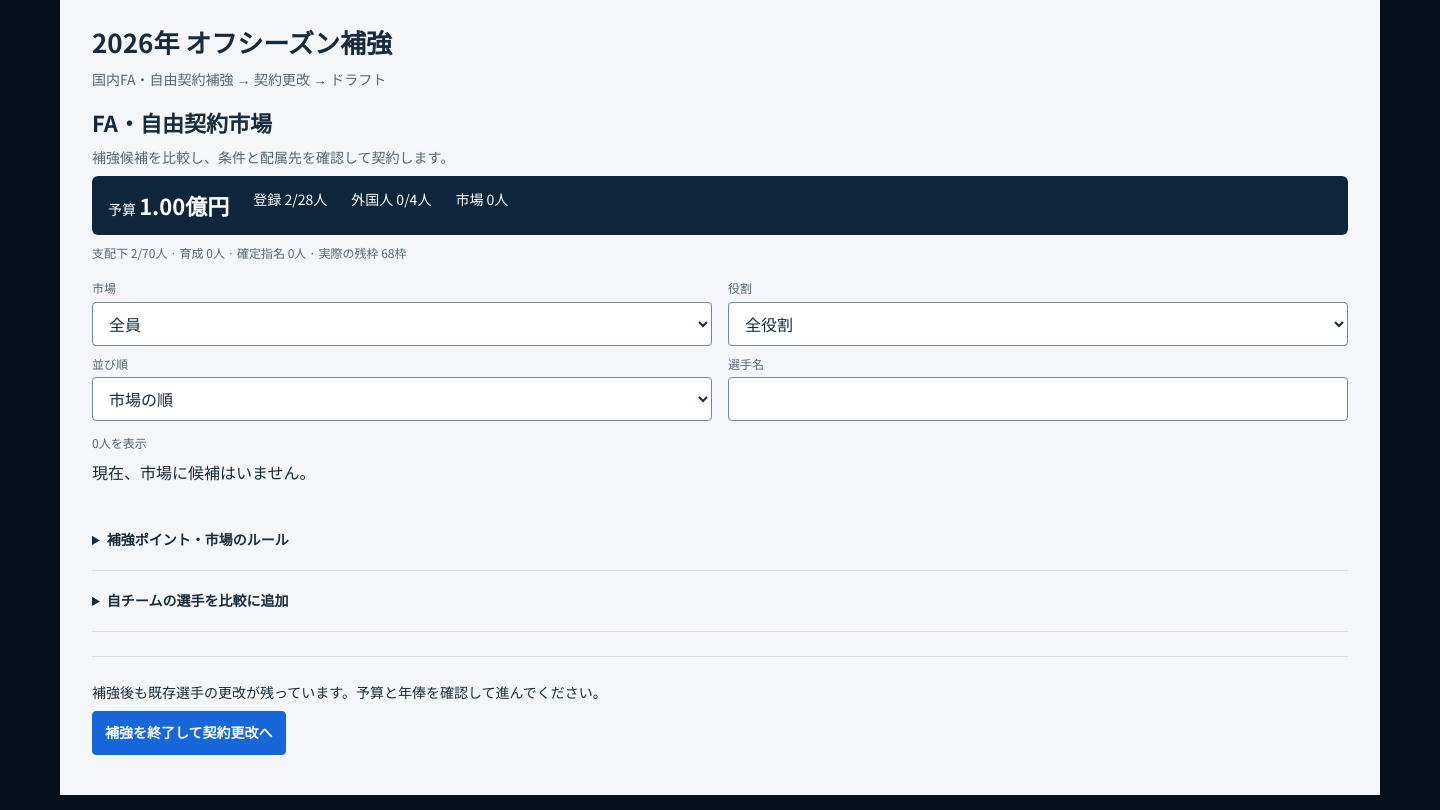
shows acquired players and terms in the phase completion review
Step 1. Click the button "補強を終了して契約更改へ" → (189,733), box [92,711,286,755]
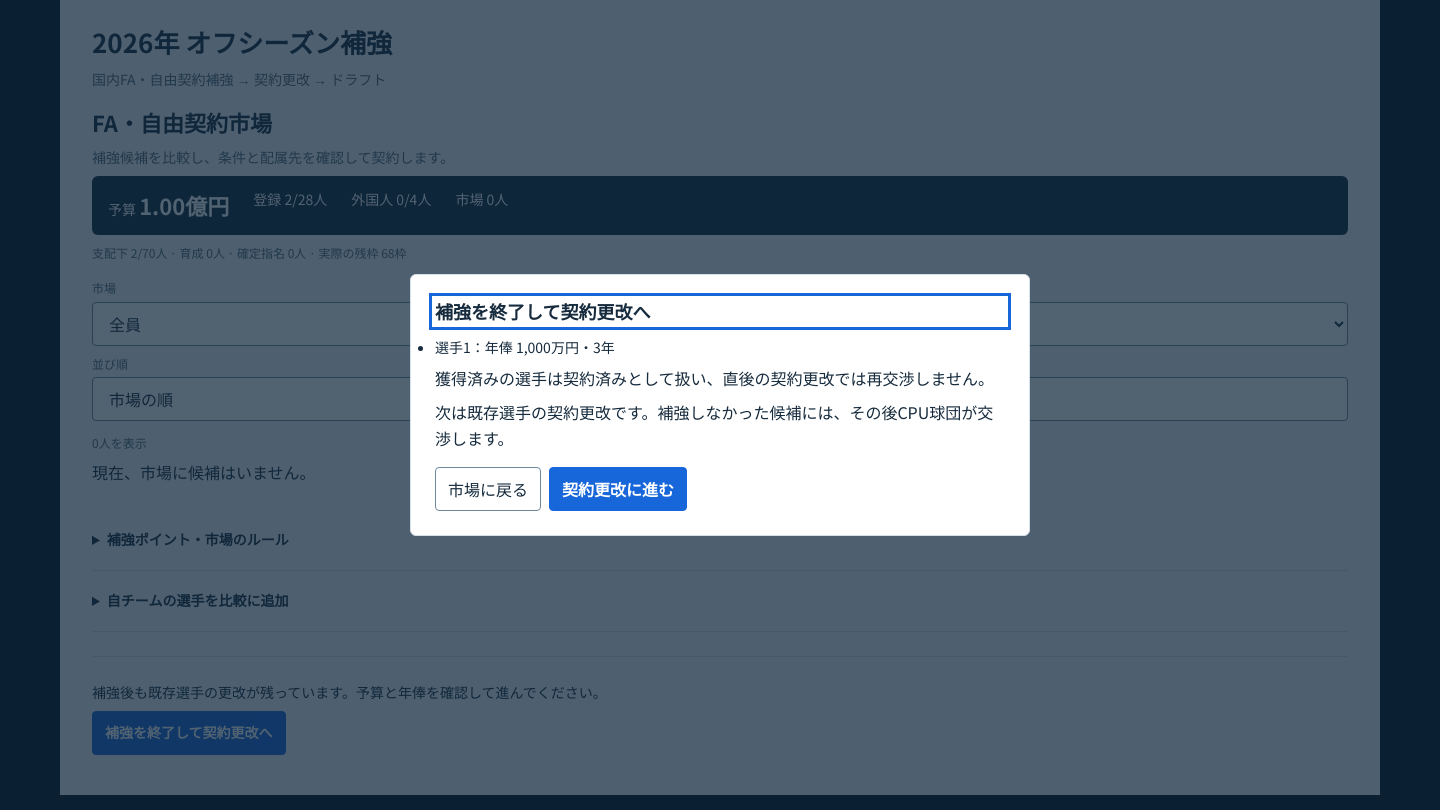
Expected: the dialog shows "選手1：年俸 1,000万円・3年", [410,274,1030,536]
